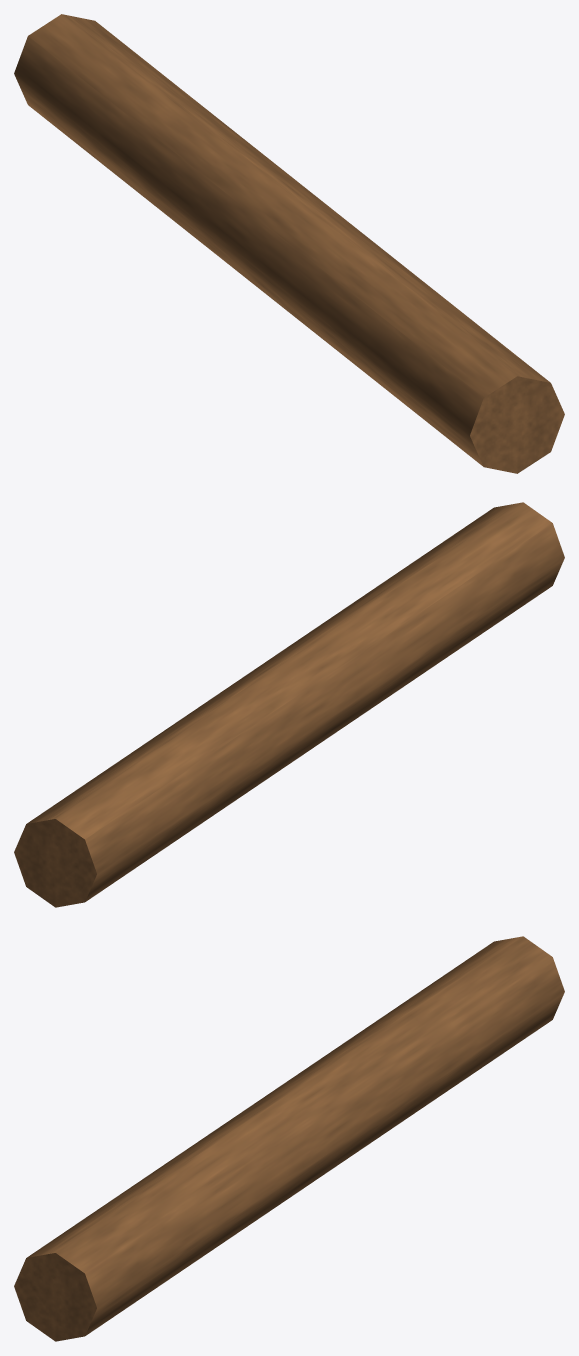
Rendered from item-OakHaftComponent.fbx.
3 renders of one model, top to bottom at view 1: azimuth 30°, elevation 25°; view 2: azimuth 150°, elevation 25°; view 3: azimuth 330°, elevation 25°, orthographic. The views are drawn at different scales.
Visible parts, largest first — view 1: item-OakHaftComponent__Geometry; view 2: item-OakHaftComponent__Geometry; view 3: item-OakHaftComponent__Geometry.
Boxes of the visible parts, left/top/right/bottom form: item-OakHaftComponent__Geometry: left=14, top=14, right=564, bottom=473; item-OakHaftComponent__Geometry: left=14, top=502, right=564, bottom=907; item-OakHaftComponent__Geometry: left=14, top=936, right=564, bottom=1341.
Size of the model in its own units: 0.105 by 0.08 by 0.7228.
1 material, 1 textured.
